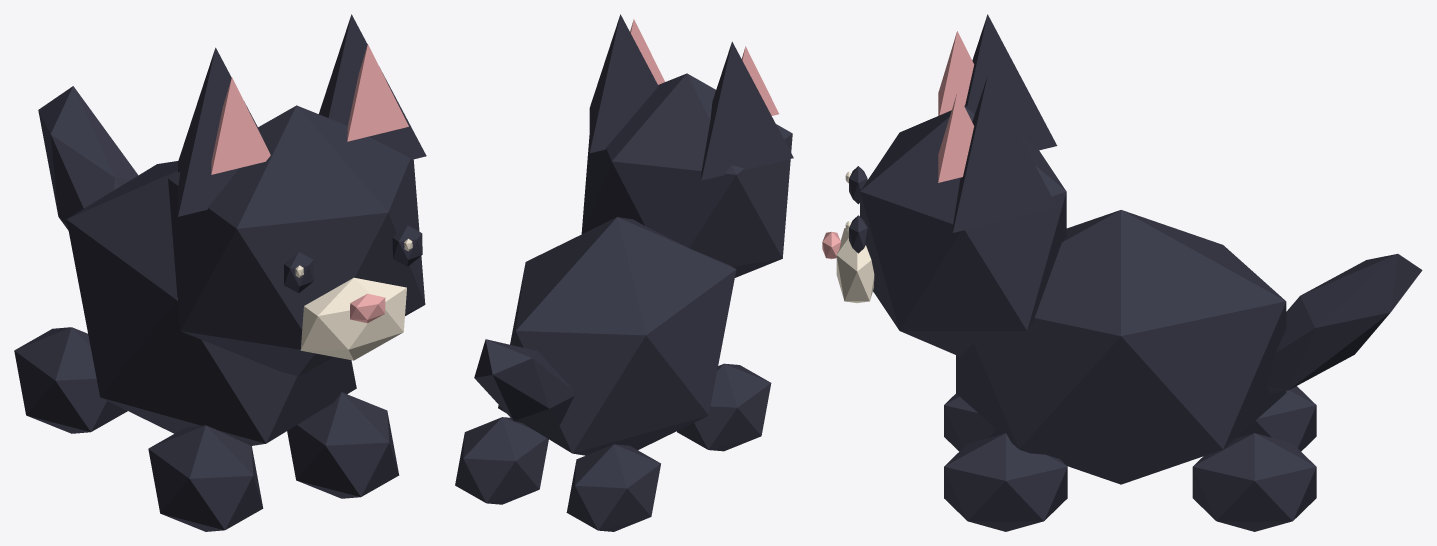
The model's file is pet_cat_black.glb.
3 renders of one model, left to right at view 1: azimuth 30°, elevation 25°; view 2: azimuth 150°, elevation 25°; view 3: azimuth 270°, elevation 25°, orthographic. The views are drawn at different scales.
Visible parts, largest first — view 1: head, body, paw, paw.001, back_paw, tail_bob, muzzle, ear, ear.001, ear_inner.001, ear_inner, eye.001 (+2 smaller); view 2: body, head, ear, back_paw, back_paw.001, tail_bob, ear.001, paw, ear_inner, ear_inner.001; view 3: body, head, tail_bob, back_paw.001, paw.001, ear.001, ear, back_paw, ear_inner.001, muzzle, paw, ear_inner.
Boxes of the visible parts, bbox=[...] form: head: bbox=[168, 105, 425, 375]; body: bbox=[66, 161, 356, 445]; paw: bbox=[148, 425, 263, 531]; paw.001: bbox=[287, 392, 399, 498]; back_paw: bbox=[14, 327, 127, 433]; tail_bob: bbox=[38, 86, 138, 230]; muzzle: bbox=[300, 277, 406, 360]; ear: bbox=[178, 47, 263, 216]; ear.001: bbox=[319, 14, 426, 159]; ear_inner.001: bbox=[347, 44, 408, 141]; ear_inner: bbox=[211, 77, 270, 174]; eye.001: bbox=[392, 225, 422, 266]; body: bbox=[498, 217, 736, 455]; head: bbox=[581, 73, 792, 277]; ear: bbox=[701, 41, 793, 180]; back_paw: bbox=[566, 444, 660, 531]; back_paw.001: bbox=[455, 417, 548, 504]; tail_bob: bbox=[474, 339, 574, 430]; ear.001: bbox=[589, 14, 658, 153]; paw: bbox=[677, 363, 771, 451]; ear_inner: bbox=[741, 46, 778, 115]; ear_inner.001: bbox=[630, 19, 664, 84]; body: bbox=[956, 210, 1286, 484]; head: bbox=[860, 105, 1066, 356]; tail_bob: bbox=[1267, 254, 1422, 393]; back_paw.001: bbox=[1192, 433, 1316, 531]; paw.001: bbox=[944, 433, 1067, 531]; ear.001: bbox=[952, 76, 1057, 232]; ear: bbox=[965, 14, 1057, 150]; back_paw: bbox=[1236, 386, 1316, 451]; ear_inner.001: bbox=[938, 92, 974, 182]; muzzle: bbox=[836, 228, 874, 303]; paw: bbox=[944, 393, 1001, 451]; ear_inner: bbox=[938, 31, 974, 115].
Bounding box in the file's own units: 0.4392 × 0.83 × 0.9891.
